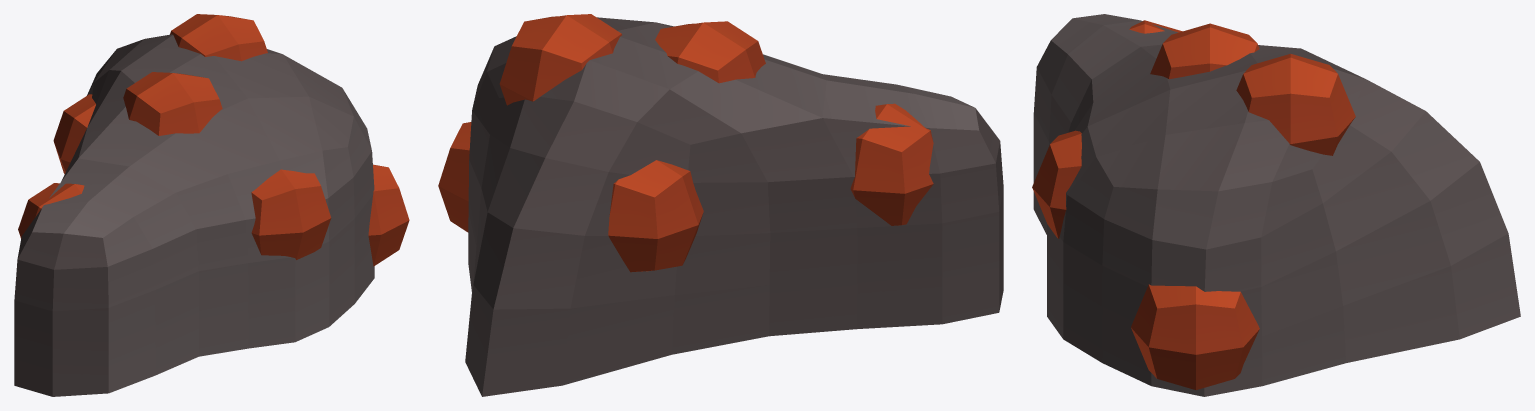
The model's file is Hearthsteel_var1.glb.
3 views of the same model, side by side, from view 1: azimuth 30°, elevation 25°; view 2: azimuth 150°, elevation 25°; view 3: azimuth 270°, elevation 25° (orthographic). The views are drawn at different scales.
Visible parts, largest first — view 1: Rock, Hearthsteel; view 2: Rock, Hearthsteel; view 3: Rock, Hearthsteel.
Boxes of the visible parts, x1=… form: Rock: x1=14, y1=34, x2=374, y2=396; Hearthsteel: x1=18, y1=14, x2=409, y2=266; Rock: x1=465, y1=17, x2=1003, y2=396; Hearthsteel: x1=438, y1=14, x2=933, y2=272; Rock: x1=1033, y1=14, x2=1520, y2=396; Hearthsteel: x1=1032, y1=20, x2=1355, y2=389.
Size of the model in its own units: 5.24 by 2.84 by 4.55.
Materials: 1 (1 with a texture image).
